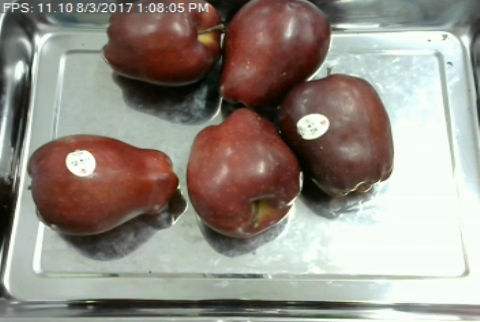Apple: (23, 131, 181, 238), (185, 107, 305, 241), (277, 72, 397, 201), (214, 0, 334, 111), (100, 3, 228, 88)
